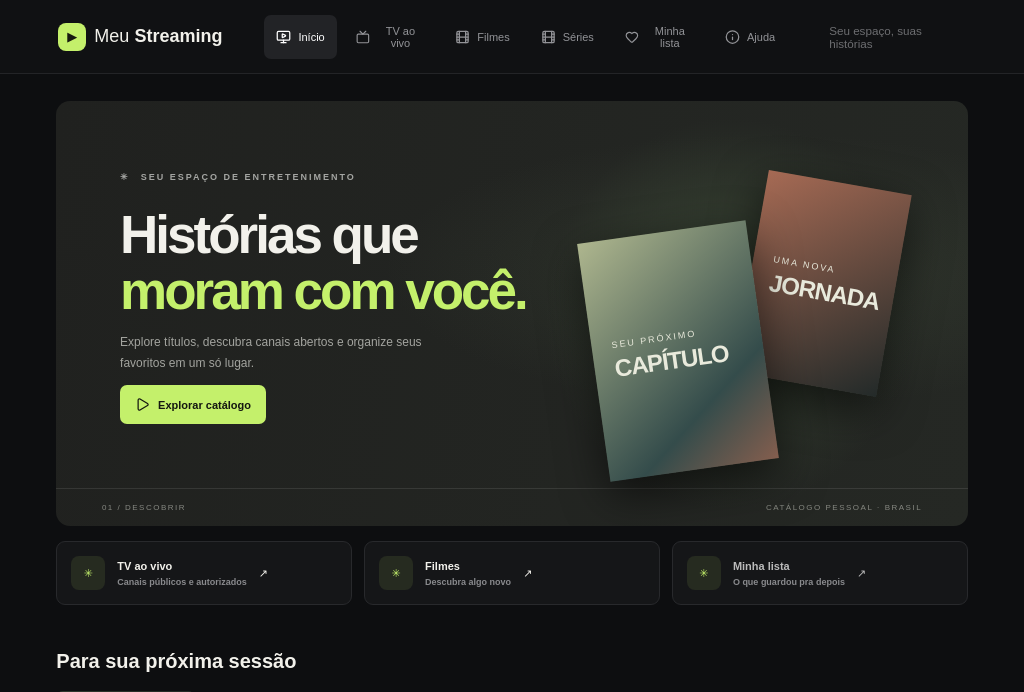
interface › mantém um título de licença pendente apenas como fonte informativa
Click the button "Filmes" at (482,36), box [443,14,522,58]
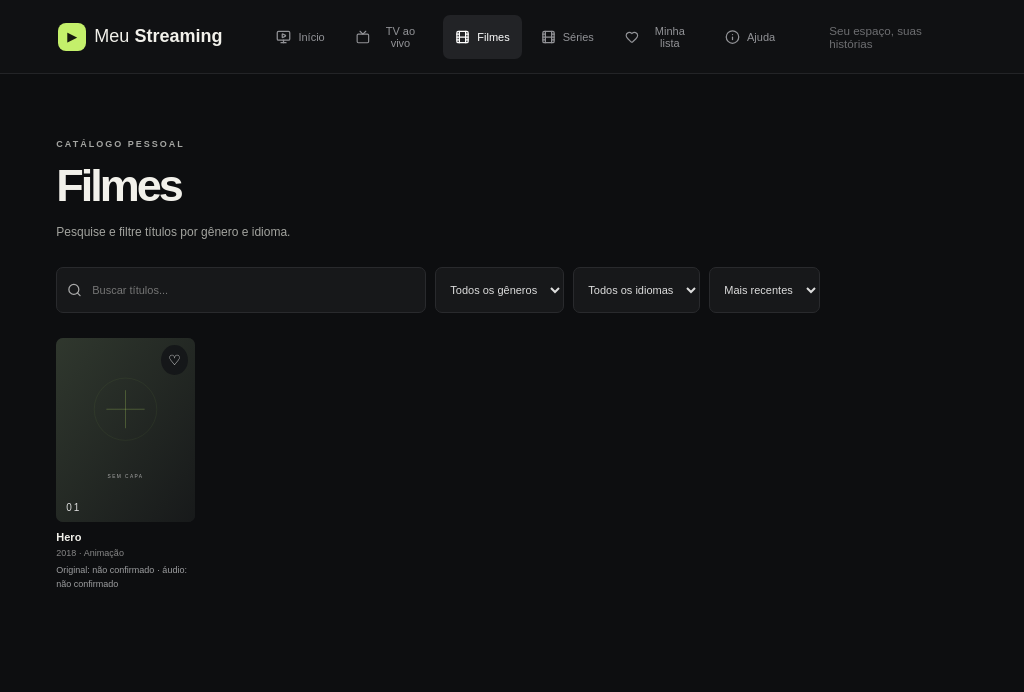
Click the button "01" at (126,430), box [56,338,195,522]
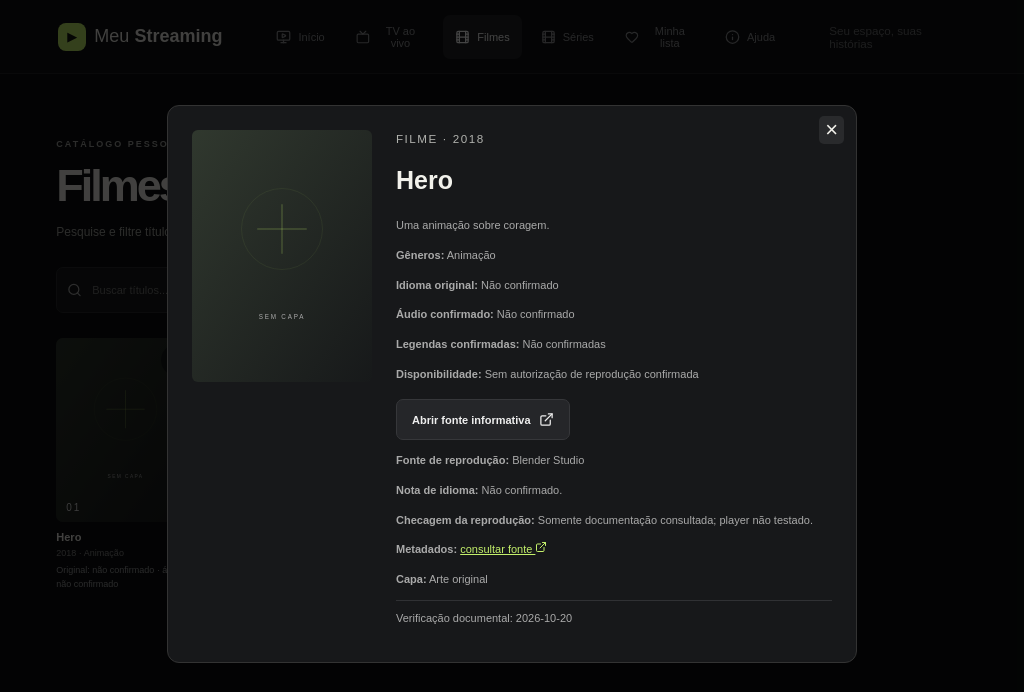
Expected: the text "Sem autorização de reprodução confirmada" is shown, [485,368,699,380]
Expected: the text "Abrir fonte informativa" is shown, [396,399,570,440]
